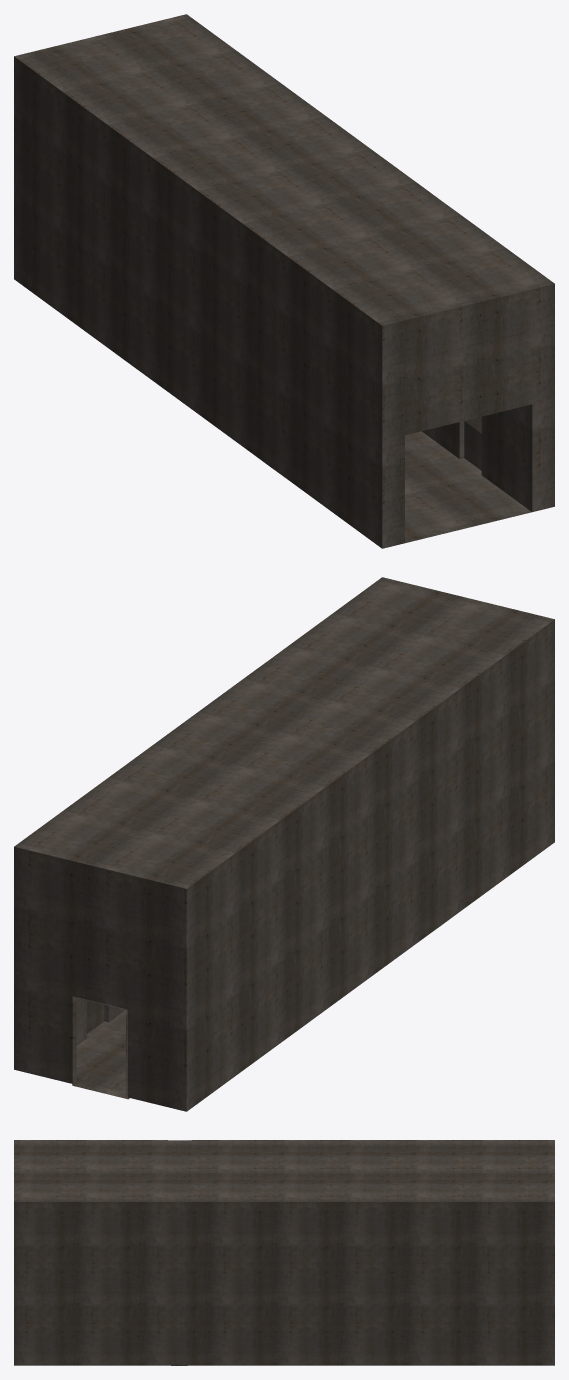
Rendered from HallwayTall_NDoorType_A_SDoorType_OPEN_Short.glb.
The picture shows the model from 3 angles, top to bottom: view 1: azimuth 30°, elevation 25°; view 2: azimuth 150°, elevation 25°; view 3: azimuth 270°, elevation 25°; orthographic projection. The views are drawn at different scales.
Parts seen in each view (by area): view 1: geo_0; view 2: geo_0; view 3: geo_0.
Part boxes in pixels (bbox=[...]): geo_0: bbox=[14, 14, 554, 548]; geo_0: bbox=[14, 577, 554, 1111]; geo_0: bbox=[14, 1140, 554, 1365].
Size of the model in its own units: 15.4 by 19.15 by 56.89.
2 materials, 2 textured.
